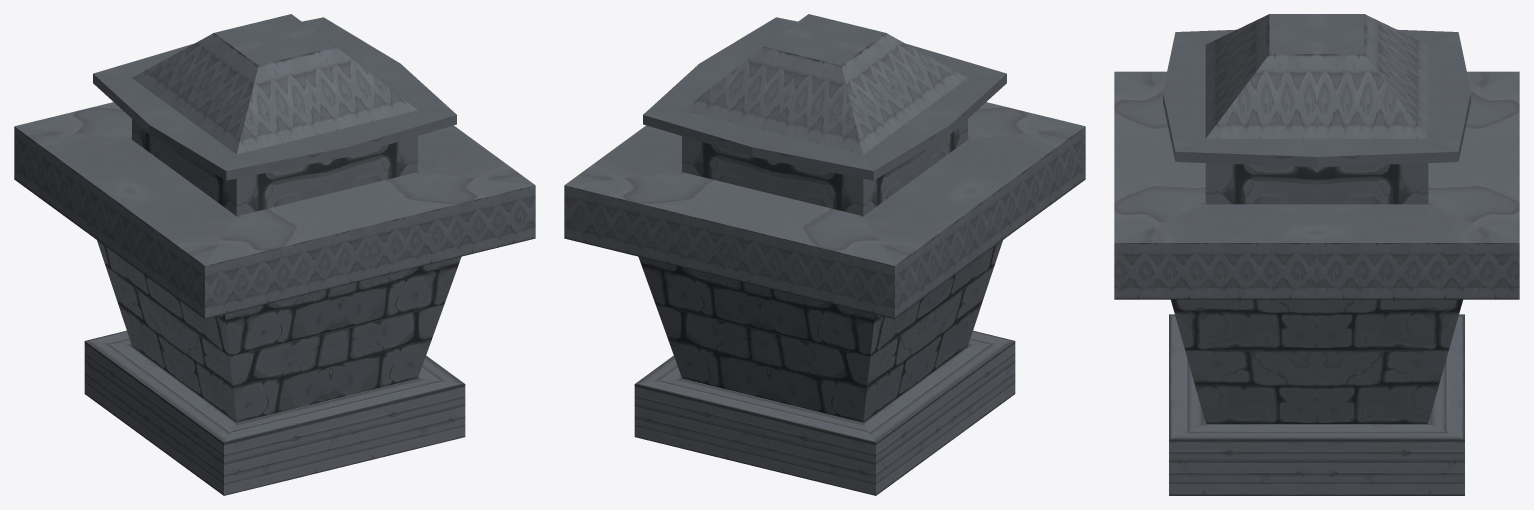
Rendered from Candi.fbx.
3 renders of one model, left to right at view 1: azimuth 30°, elevation 25°; view 2: azimuth 150°, elevation 25°; view 3: azimuth 270°, elevation 25°, orthographic. The views are drawn at different scales.
Visible parts, largest first — view 1: Cube.002; view 2: Cube.002; view 3: Cube.002.
Boxes of the visible parts, x1,y1,x2,y2 form: Cube.002: (14,14,535,495); Cube.002: (564,14,1085,495); Cube.002: (1114,14,1519,495).
Bounding box in the file's own units: 83.21 × 90.4 × 83.21.
